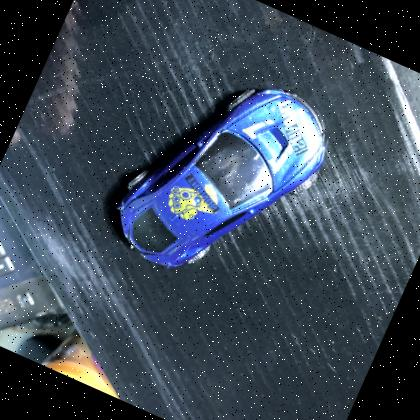Car: (94, 38, 354, 322)
